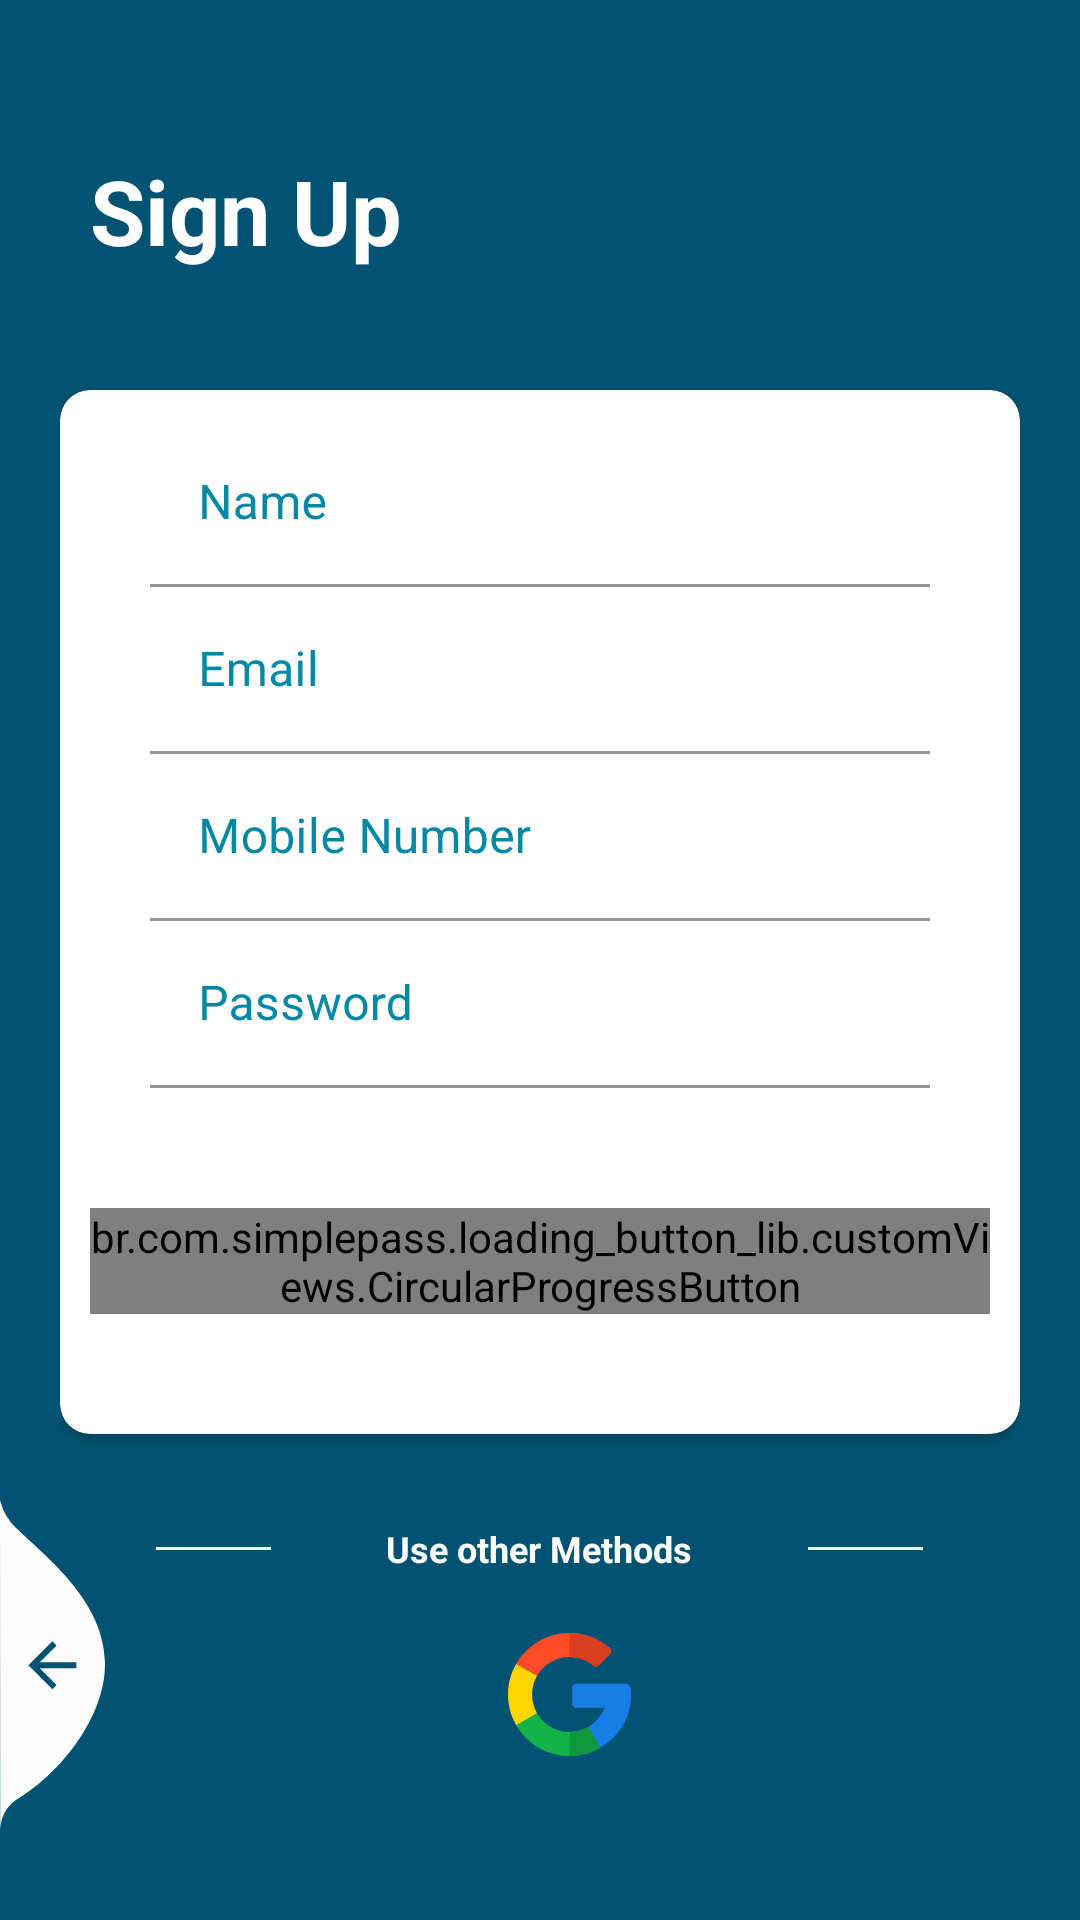

Icon click points for this 1080 x 1920 phone screenshot, format [x,y]:
back: [52,1664]
